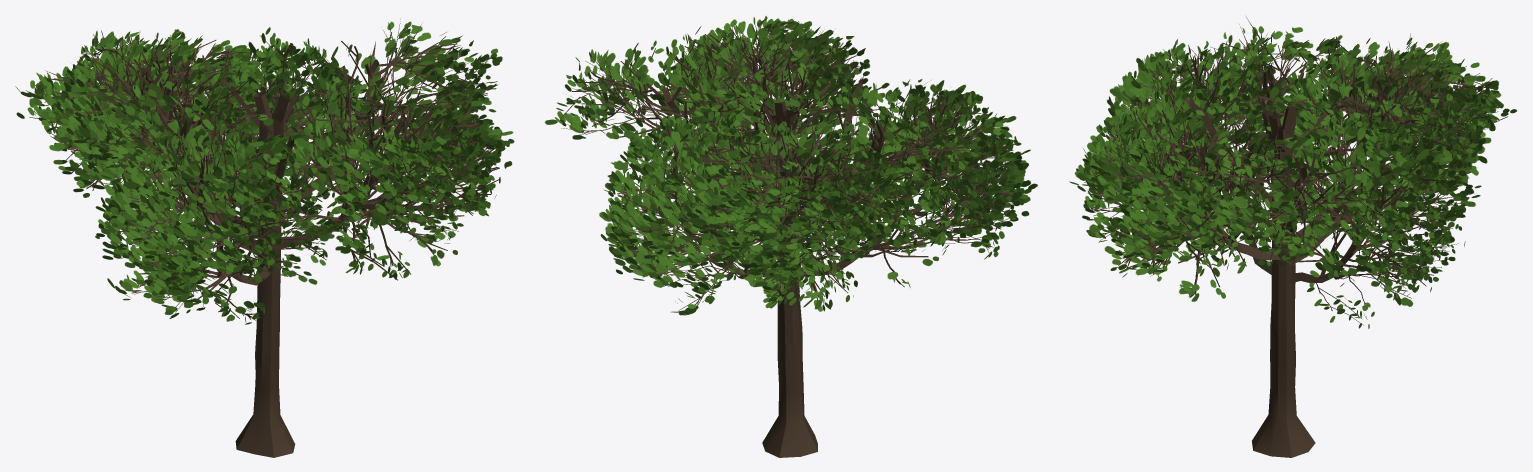
The picture shows the model from 3 angles, left to right: view 1: azimuth 30°, elevation 25°; view 2: azimuth 150°, elevation 25°; view 3: azimuth 270°, elevation 25°; orthographic projection. The views are drawn at different scales.
Parts seen in each view (by area): view 1: oak 01.001_trunk_Mat.001_0.141; view 2: oak 01.001_trunk_Mat.001_0.141; view 3: oak 01.001_trunk_Mat.001_0.141.
Part boxes in pixels (x1=…): oak 01.001_trunk_Mat.001_0.141: x1=15, y1=19, x2=514, y2=457; oak 01.001_trunk_Mat.001_0.141: x1=544, y1=16, x2=1037, y2=457; oak 01.001_trunk_Mat.001_0.141: x1=1069, y1=17, x2=1516, y2=457.
Bounding box in the file's own units: 5.22 × 4.37 × 5.
Materials: 2 (1 with a texture image).
